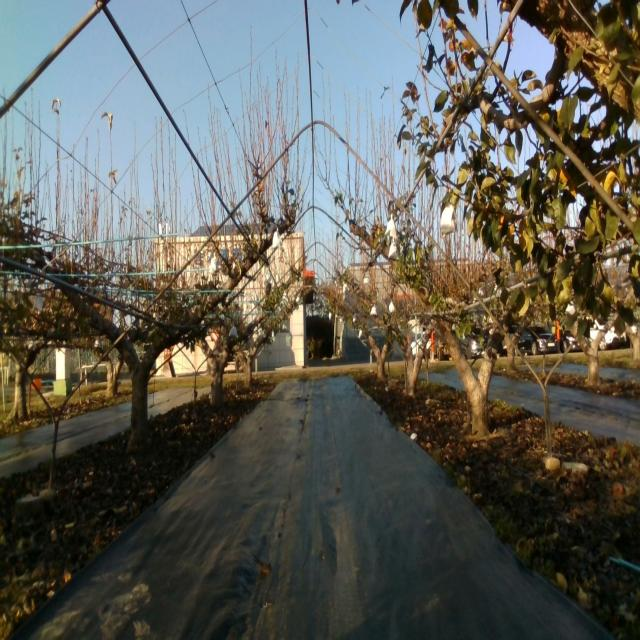pearbags: (439, 202, 457, 232), (385, 214, 398, 239), (209, 253, 221, 276), (388, 240, 400, 260), (272, 227, 282, 248)
